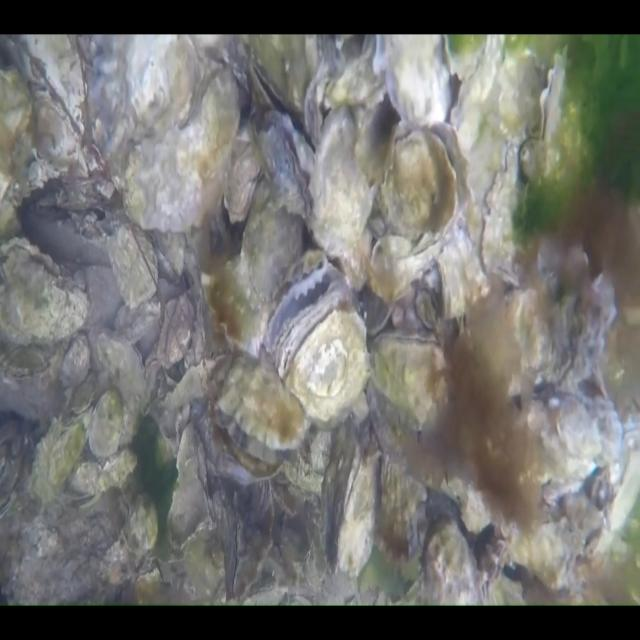Oyster- Indeterminate: (249, 125, 314, 227), (214, 137, 266, 223), (154, 290, 197, 372), (139, 348, 164, 403)
Oyster-Closed: (241, 258, 409, 437), (206, 351, 325, 460), (538, 238, 618, 396), (368, 18, 468, 136), (310, 107, 374, 289), (317, 419, 382, 578), (0, 238, 89, 344), (380, 129, 456, 240), (369, 455, 432, 563), (128, 36, 198, 131), (101, 218, 168, 311), (0, 69, 33, 239), (419, 519, 480, 605), (534, 47, 568, 172), (84, 385, 129, 461)
Oyster-Open: (168, 424, 209, 544)
